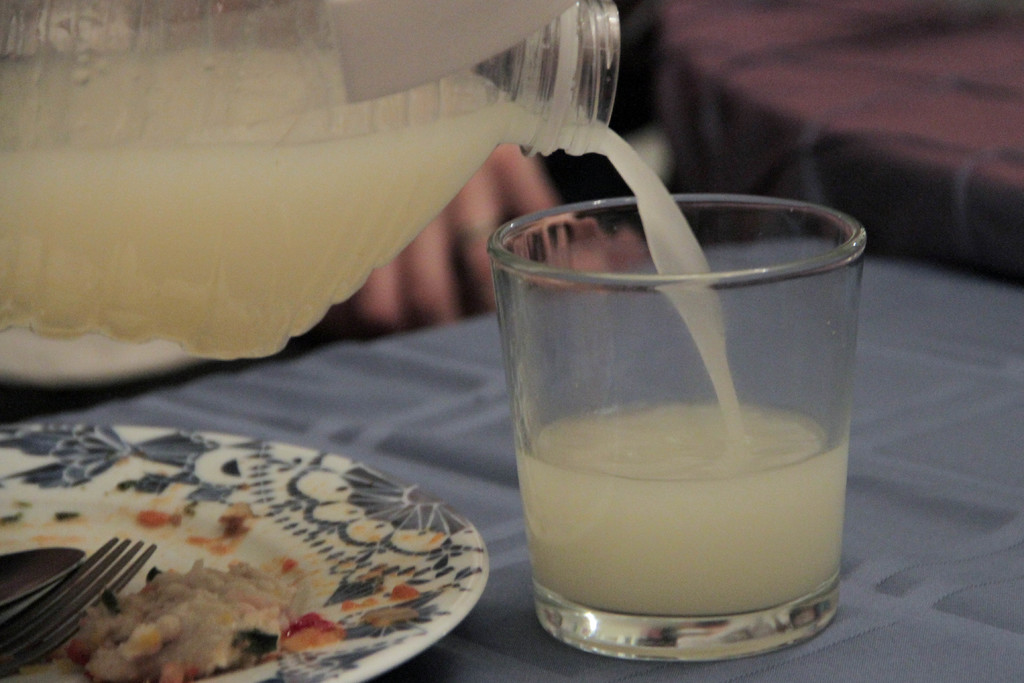plate: (11, 427, 510, 682)
